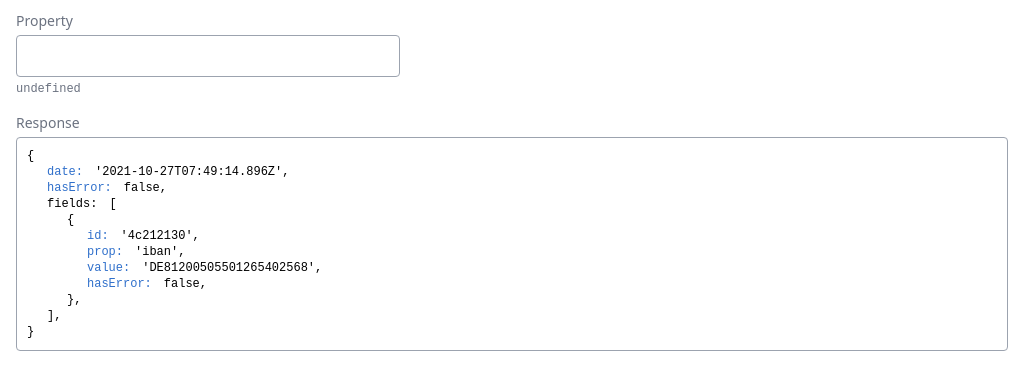
it: JsonExplorer › displays the corresponding value when a property path is entered
Type "res.date" into the field labelled "Property" at point(208, 56), box [16,35,400,77]
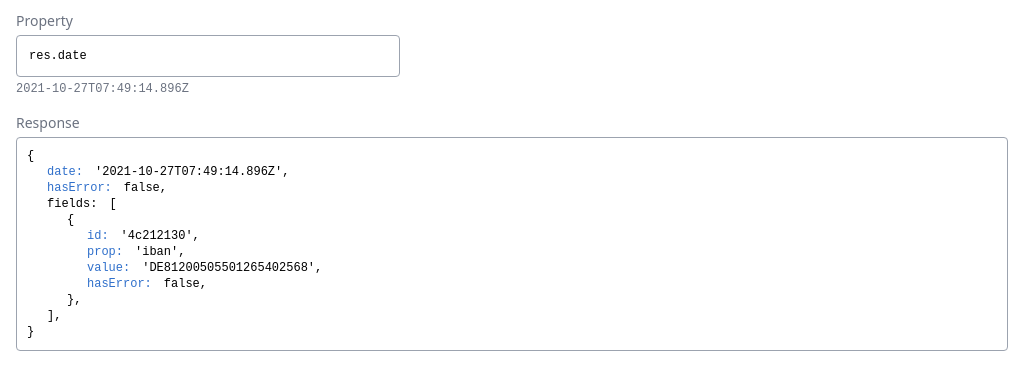
Now the text with test id "input__property-value" shows "2021-10-27T07:49:14.896", box [16,82,189,96]
Replace the text in the field labelled "Property" with "res.hasError" at point(208, 56), box [16,35,400,77]
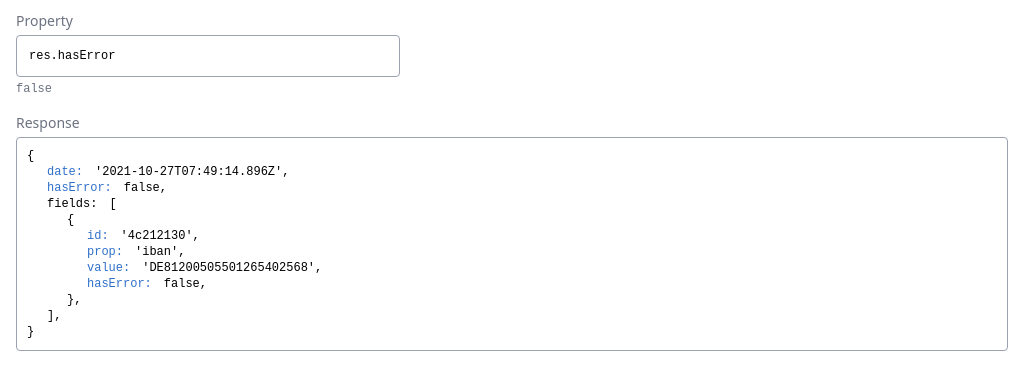
Now the text with test id "input__property-value" reads "false", box [16,82,52,96]
Replace the text in the field labelled "Property" with "res.fields[0].prop" at point(208, 56), box [16,35,400,77]
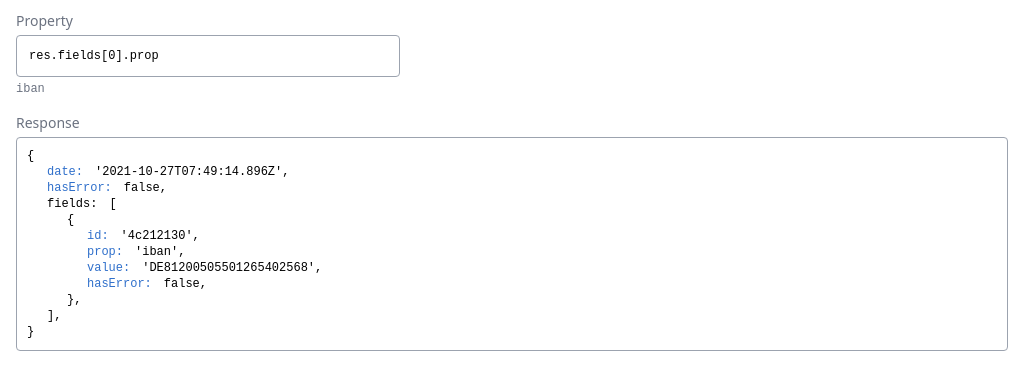
Now the text with test id "input__property-value" reads "iban", box [16,82,45,96]
Replace the text in the field labelled "Property" with "res.fields[0].value" at point(208, 56), box [16,35,400,77]
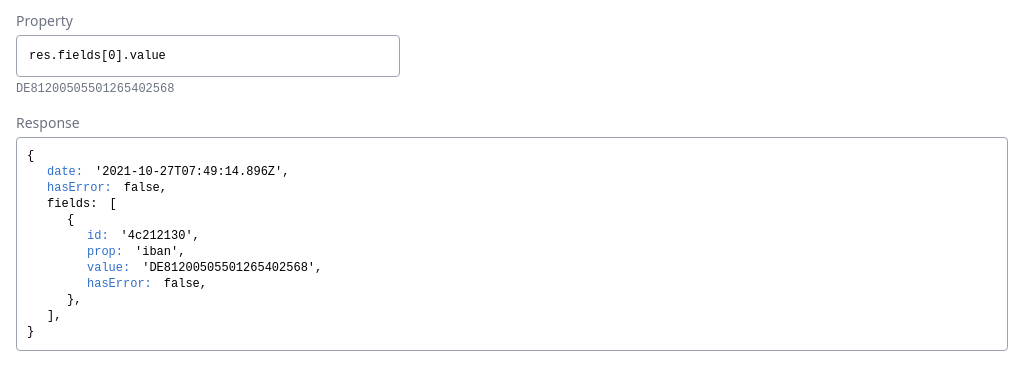
Now the text with test id "input__property-value" reads "DE81200505501265402568", box [16,82,174,96]
Replace the text in the field labelled "Property" with "res.nonExistentProperty" at point(208, 56), box [16,35,400,77]
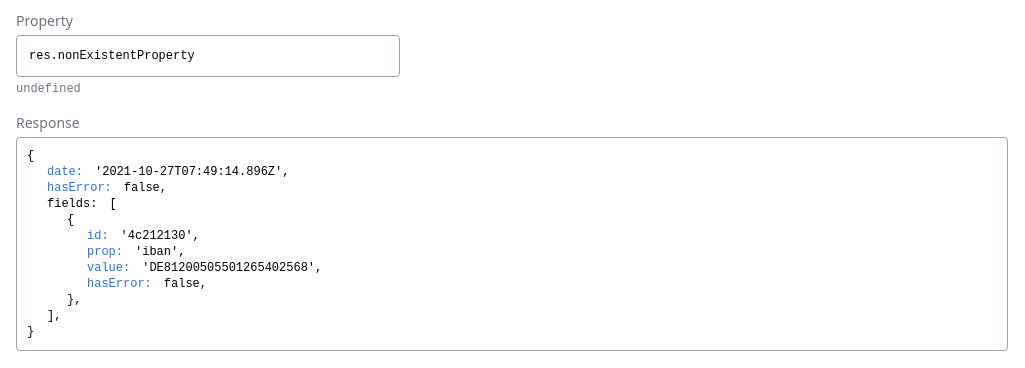
Now the text with test id "input__property-value" reads "undefined", box [16,82,81,96]
